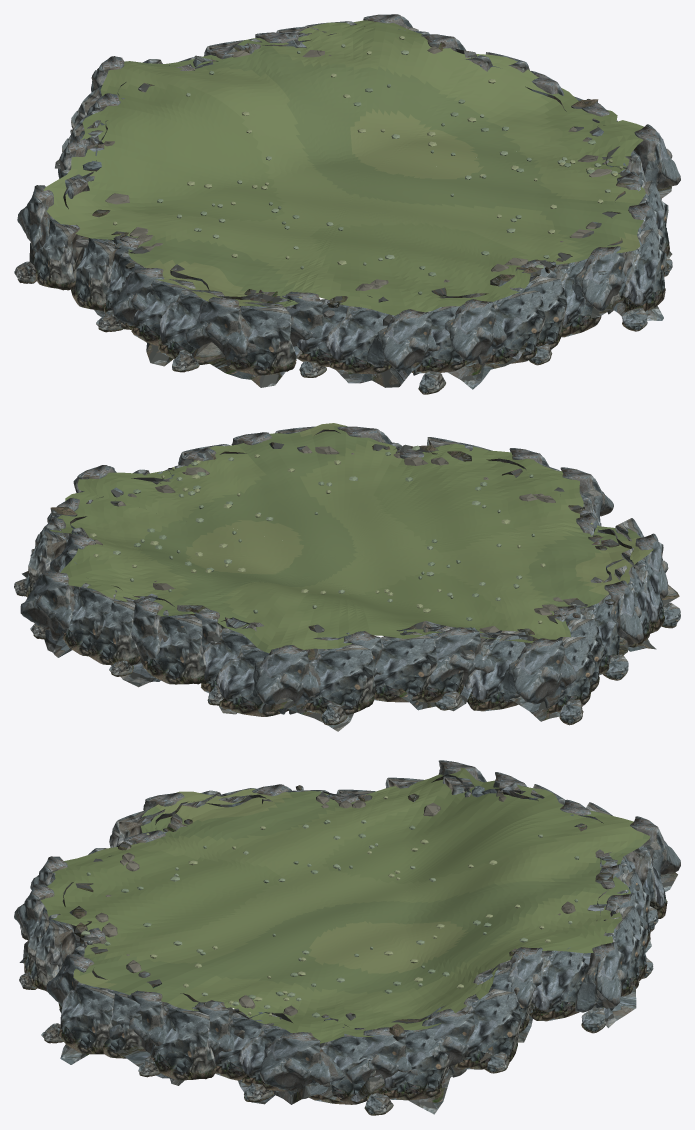
Rendered from ValoriaEnvironmentV2.glb.
3 renders of one model, top to bottom at view 1: azimuth 30°, elevation 25°; view 2: azimuth 150°, elevation 25°; view 3: azimuth 270°, elevation 25°, orthographic.
Visible parts, largest first — view 1: Valoria Highlands - Blender sculpted environment, Buried continuous cliff contact receiver - existing geometry, CC0 directed cliff course 32, CC0 cluster directed cliff course 36, CC0 directed cliff course 39, CC0 cluster directed cliff course 31, CC0 directed cliff course 35, CC0 directed cliff course 44, CC0 cluster directed cliff course 38, CC0 directed cliff course 24, CC0 cluster directed cliff course 43, CC0 directed cliff course 25 (+13 smaller); view 2: Valoria Highlands - Blender sculpted environment, Buried continuous cliff contact receiver - existing geometry, CC0 directed cliff course 17, CC0 cluster directed cliff course 23, CC0 directed cliff course 19, CC0 cluster directed cliff course 16, CC0 directed cliff course 12, CC0 directed cliff course 22, CC0 cluster directed cliff course 08, CC0 directed cliff course 15, CC0 cluster directed cliff course 21, CC0 directed cliff course 10 (+19 smaller); view 3: Valoria Highlands - Blender sculpted environment, Buried continuous cliff contact receiver - existing geometry, CC0 directed cliff course 47, CC0 cluster directed cliff course 51, CC0 directed cliff course 04, CC0 directed cliff course 44, CC0 directed cliff course 07, CC0 directed cliff course 02, CC0 cluster directed cliff course 08, CC0 cluster directed cliff course 01, CC0 directed cliff course 00, CC0 cluster directed cliff course 03 (+18 smaller).
Part boxes in pixels (x1=…): Valoria Highlands - Blender sculpted environment: x1=43, y1=20, x2=645, y2=315; Buried continuous cliff contact receiver - existing geometry: x1=29, y1=26, x2=672, y2=389; CC0 directed cliff course 32: x1=229, y1=302, x2=296, y2=375; CC0 cluster directed cliff course 36: x1=367, y1=309, x2=439, y2=375; CC0 directed cliff course 39: x1=484, y1=290, x2=545, y2=364; CC0 cluster directed cliff course 31: x1=185, y1=297, x2=260, y2=366; CC0 directed cliff course 35: x1=325, y1=306, x2=391, y2=374; CC0 directed cliff course 44: x1=619, y1=229, x2=666, y2=312; CC0 cluster directed cliff course 38: x1=445, y1=299, x2=506, y2=364; CC0 directed cliff course 24: x1=32, y1=217, x2=84, y2=290; CC0 cluster directed cliff course 43: x1=572, y1=246, x2=625, y2=314; CC0 directed cliff course 25: x1=71, y1=238, x2=116, y2=311; Valoria Highlands - Blender sculpted environment: x1=49, y1=423, x2=653, y2=653; Buried continuous cliff contact receiver - existing geometry: x1=22, y1=429, x2=679, y2=731; CC0 directed cliff course 17: x1=306, y1=644, x2=375, y2=715; CC0 cluster directed cliff course 23: x1=503, y1=638, x2=576, y2=708; CC0 directed cliff course 19: x1=374, y1=631, x2=437, y2=702; CC0 cluster directed cliff course 16: x1=253, y1=645, x2=320, y2=714; CC0 directed cliff course 12: x1=143, y1=610, x2=206, y2=684; CC0 directed cliff course 22: x1=465, y1=630, x2=525, y2=711; CC0 cluster directed cliff course 08: x1=20, y1=571, x2=75, y2=640; CC0 directed cliff course 15: x1=216, y1=644, x2=288, y2=716; CC0 cluster directed cliff course 21: x1=428, y1=627, x2=493, y2=686; CC0 directed cliff course 10: x1=89, y1=596, x2=140, y2=665; Valoria Highlands - Blender sculpted environment: x1=40, y1=767, x2=650, y2=1043; Buried continuous cliff contact receiver - existing geometry: x1=19, y1=774, x2=677, y2=1114; CC0 directed cliff course 47: x1=152, y1=1005, x2=216, y2=1080; CC0 cluster directed cliff course 51: x1=259, y1=1032, x2=344, y2=1099; CC0 directed cliff course 04: x1=454, y1=988, x2=521, y2=1069; CC0 directed cliff course 44: x1=59, y1=982, x2=114, y2=1054; CC0 directed cliff course 07: x1=529, y1=947, x2=588, y2=1021; CC0 directed cliff course 02: x1=379, y1=1028, x2=449, y2=1100; CC0 cluster directed cliff course 08: x1=575, y1=942, x2=626, y2=1012; CC0 cluster directed cliff course 01: x1=345, y1=1027, x2=417, y2=1090; CC0 directed cliff course 00: x1=308, y1=1028, x2=380, y2=1104; CC0 cluster directed cliff course 03: x1=422, y1=1008, x2=474, y2=1077.
Bounding box in the file's own units: 91.15 × 17.49 × 89.31.
Materials: 14 (7 with a texture image).
